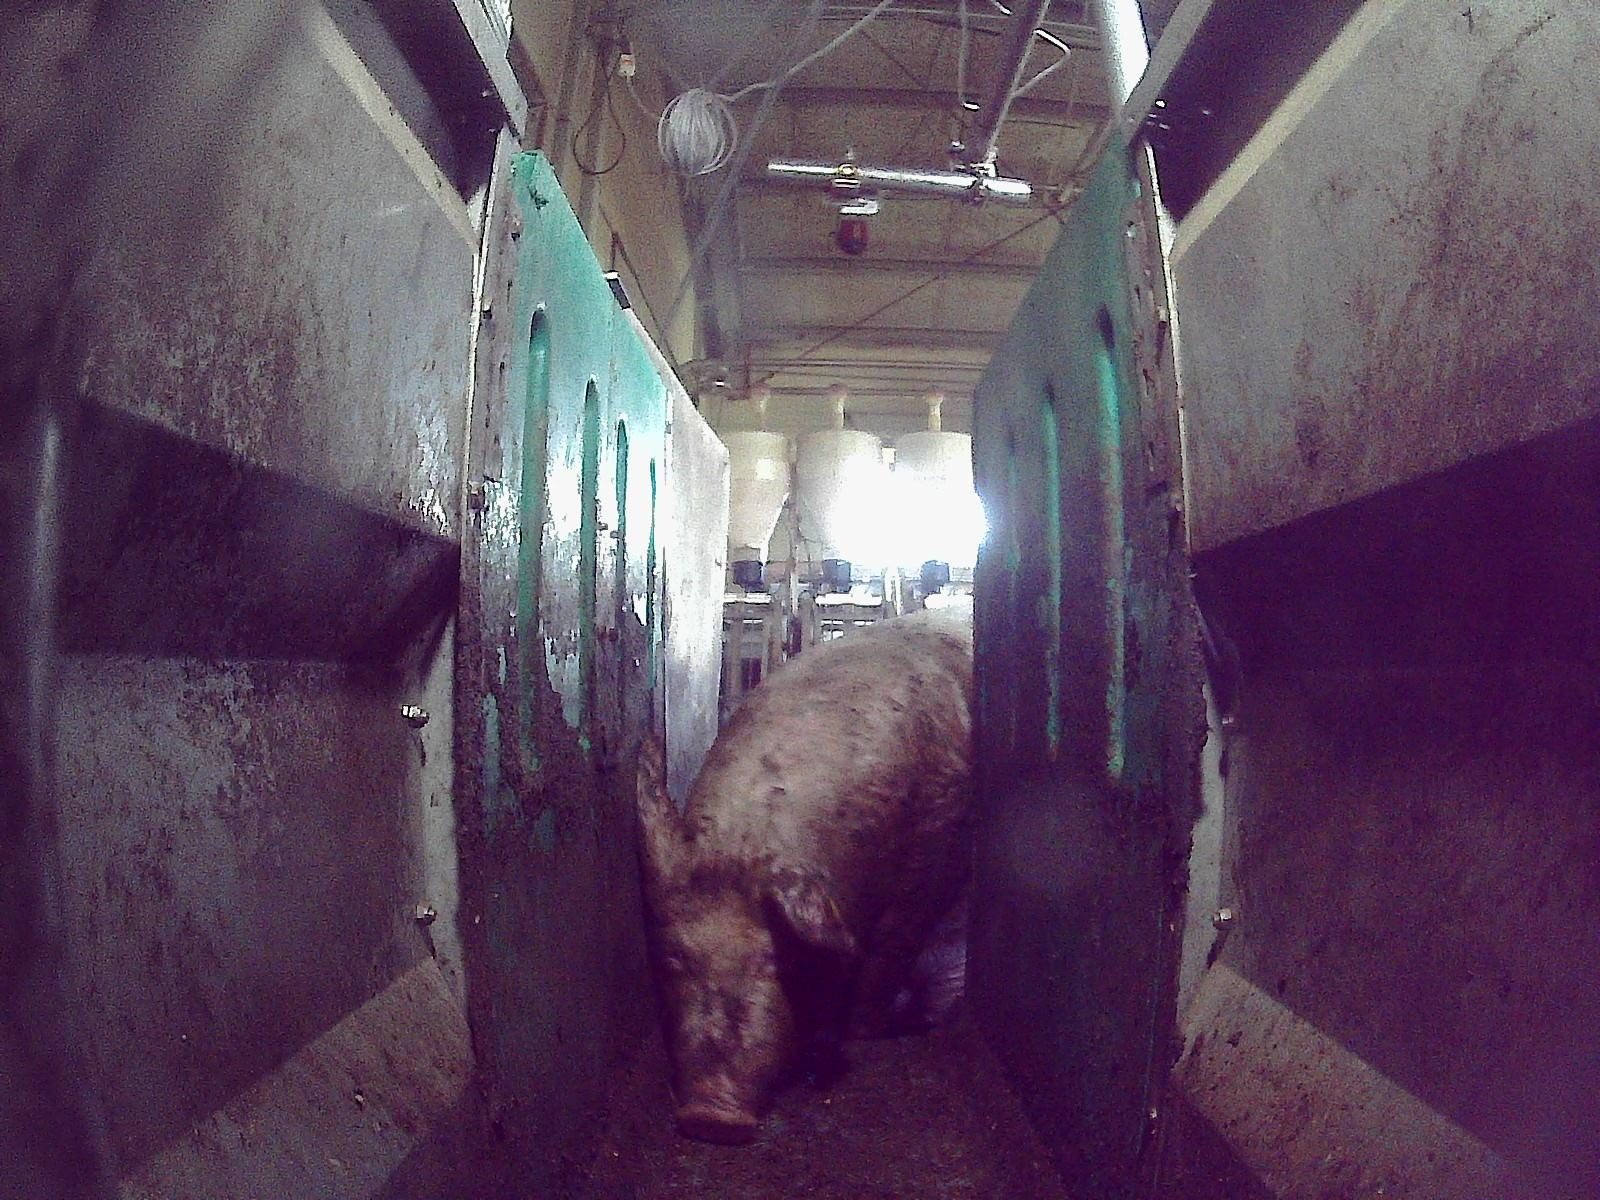Face: (648, 859, 812, 1143)
